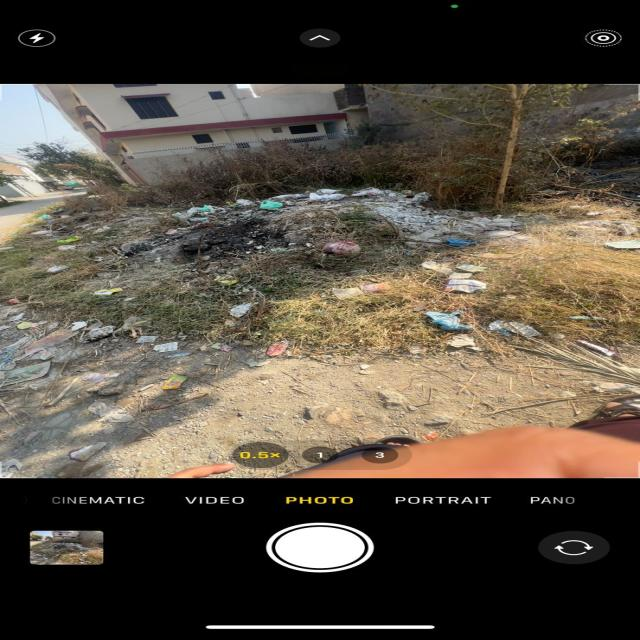garbage: (126, 187, 498, 263)
